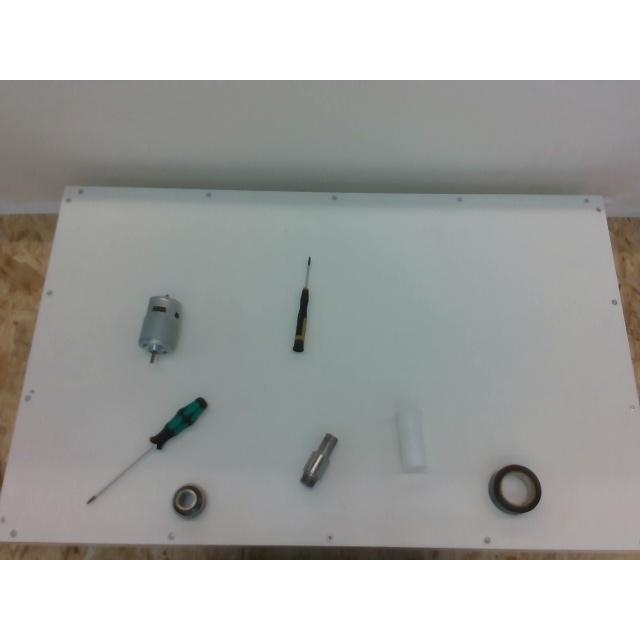Axis2: (300, 433, 336, 487)
Bearing2: (172, 484, 204, 516)
Motor2: (138, 294, 180, 362)
Screwdriver: (86, 397, 206, 503)
Spacer: (394, 404, 426, 472)
